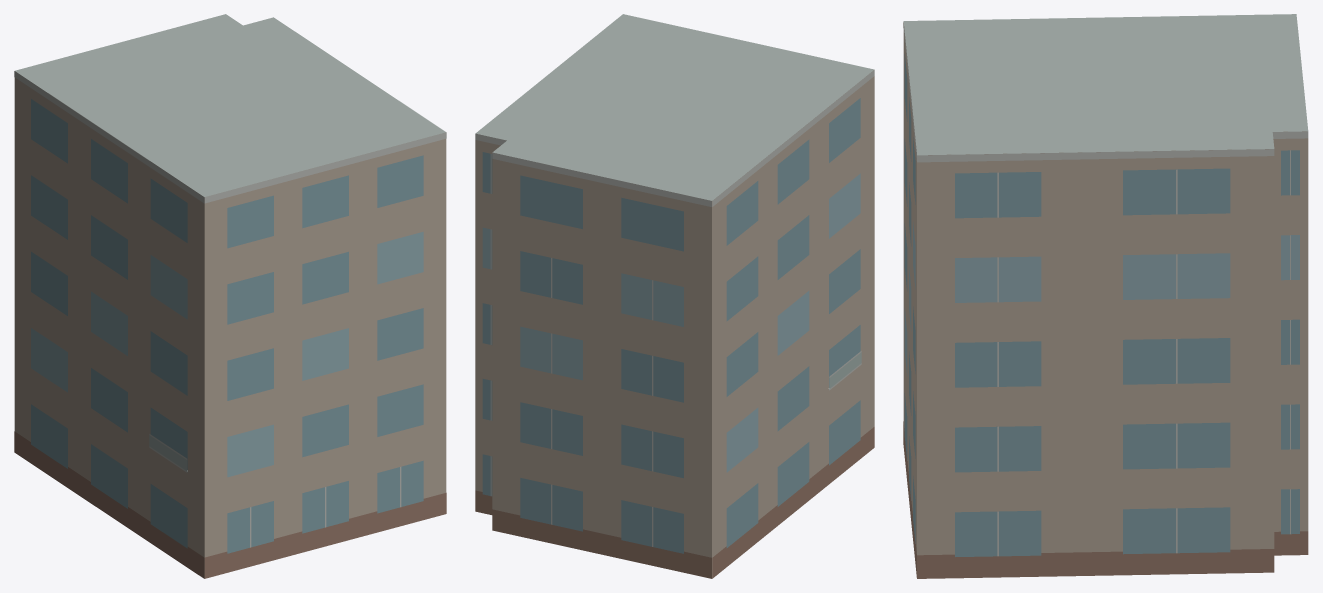
Rendered from survey-upis-33009050.glb.
3 views of the same model, side by side, from view 1: azimuth 30°, elevation 25°; view 2: azimuth 150°, elevation 25°; view 3: azimuth 270°, elevation 25° (orthographic). The views are drawn at different scales.
Visible parts, largest first — view 1: survey-upis-33009050.tmp; view 2: survey-upis-33009050.tmp; view 3: survey-upis-33009050.tmp.
Part boxes in pixels (x1,y1,x2,y2): survey-upis-33009050.tmp: [14, 14, 446, 578]; survey-upis-33009050.tmp: [475, 14, 874, 578]; survey-upis-33009050.tmp: [903, 14, 1308, 578].
Size of the model in its own units: 10.46 by 14.6 by 12.66.
